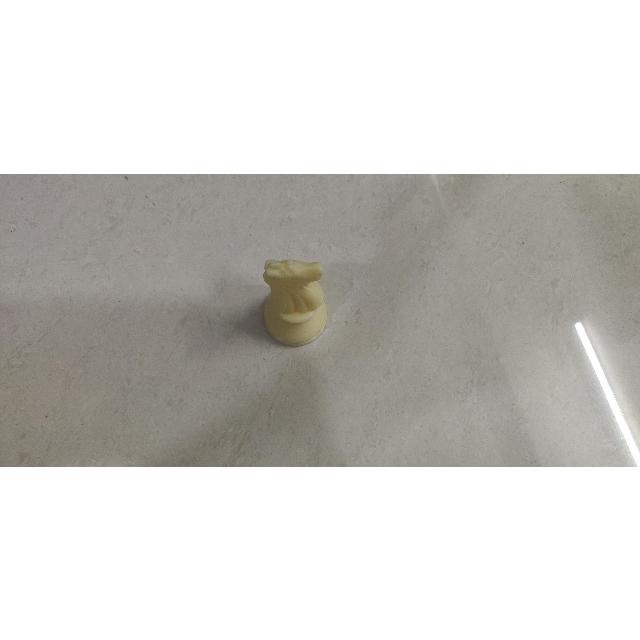white-knight: (255, 255, 333, 353)
